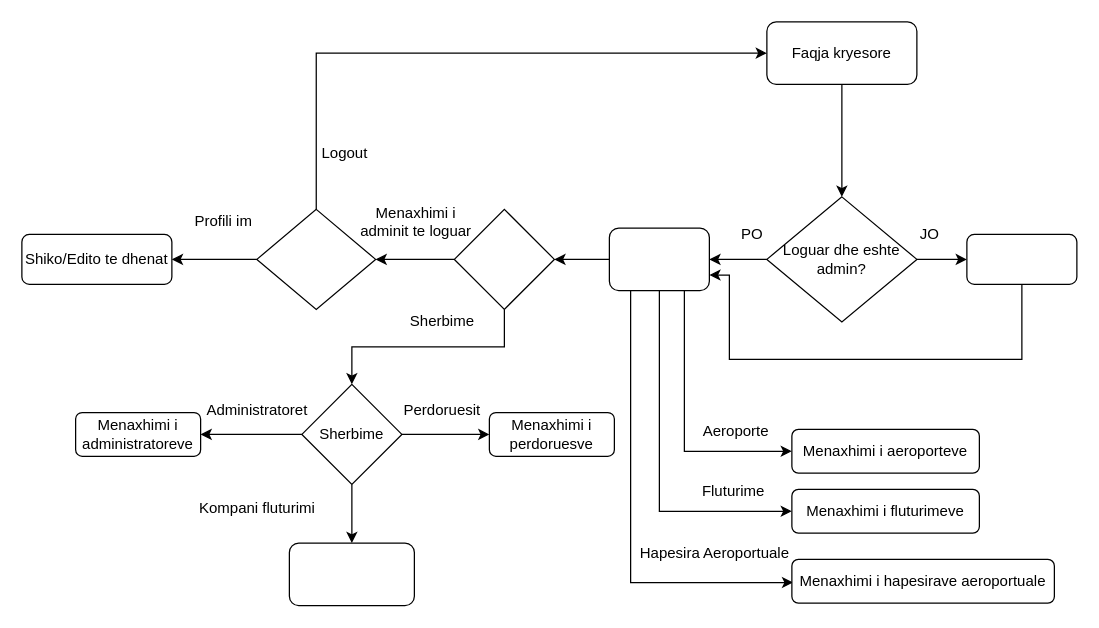
Image size: 1099x628. Some labels were removed from this diagram. The shapes that lost their labels are listed below. From the top down, each one's centre as x and y in pixels, then its label:
(x=316, y=258): Admini loguar
(x=503, y=258): Navbar
(x=658, y=259): Faqja kryesore per administrator
(x=1021, y=258): Faqja Login
(x=351, y=574): Menaxhimi i kompanive te fluturimit
